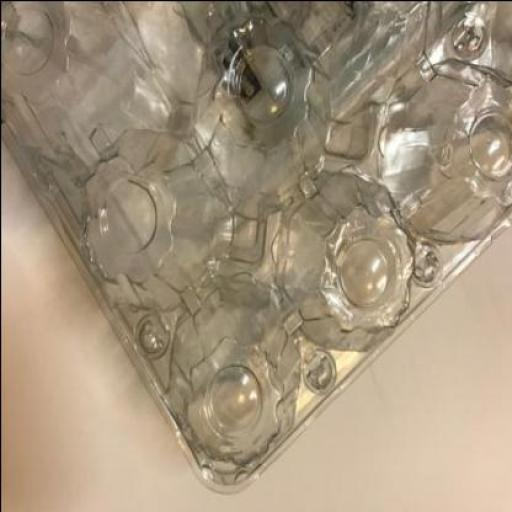plastic: (0, 1, 511, 495)
